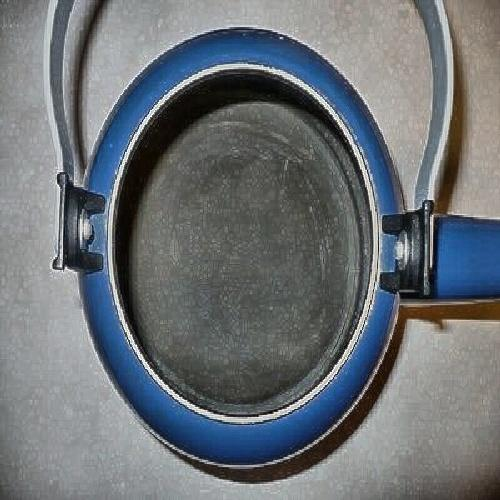kettle: (66, 43, 404, 471)
